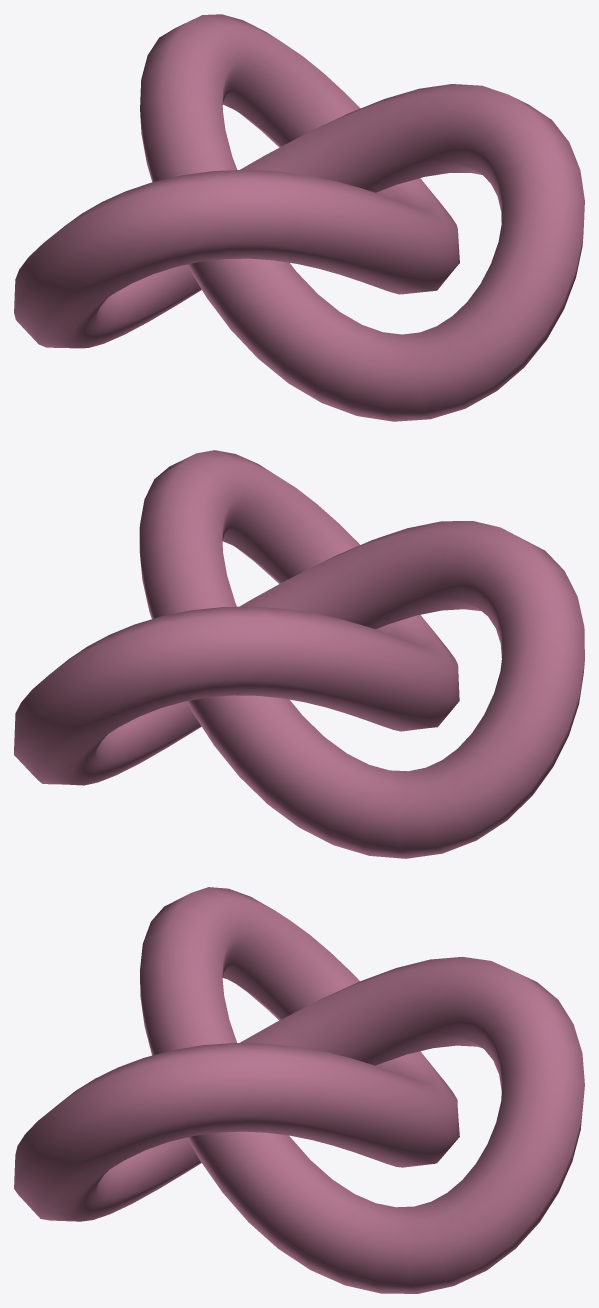
The model's file is torusknot.glb.
3 views of the same model, one above another, from view 1: azimuth 30°, elevation 25°; view 2: azimuth 150°, elevation 25°; view 3: azimuth 270°, elevation 25° (orthographic).
Visible parts, largest first — view 1: TorusKnot; view 2: TorusKnot; view 3: TorusKnot.
Part boxes in pixels (x1,y1,x2,y2): TorusKnot: [14, 14, 584, 421]; TorusKnot: [14, 450, 584, 858]; TorusKnot: [14, 887, 584, 1293].
Bounding box in the file's own units: 6.04 × 2.96 × 6.41.
